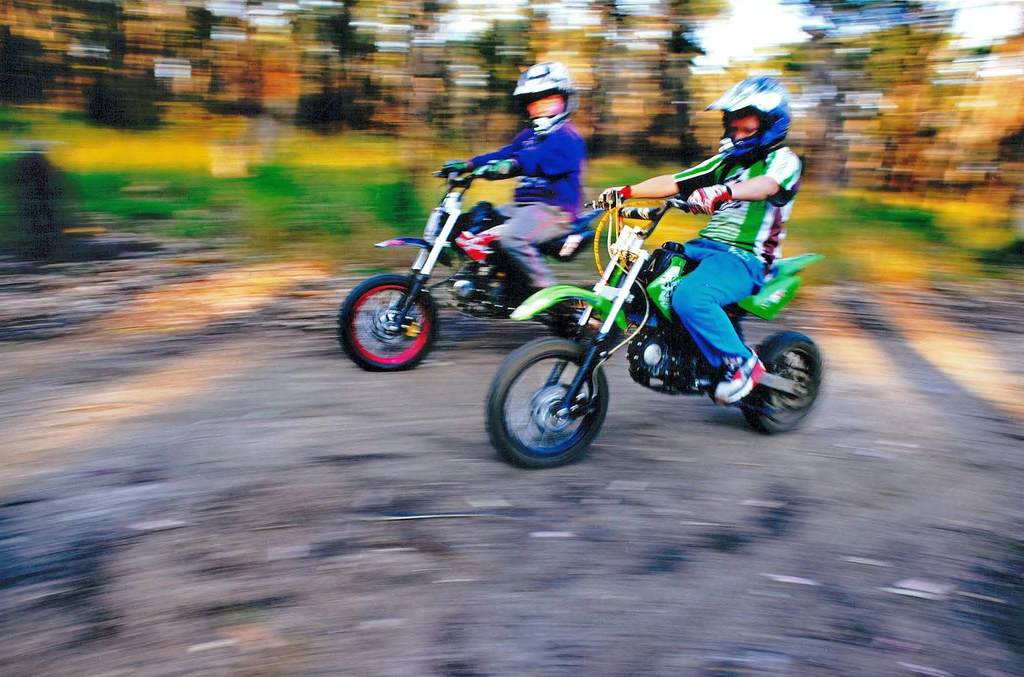Person: (597, 75, 802, 403), (437, 60, 588, 292)
